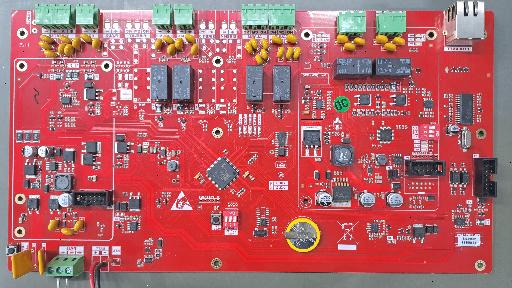var: (10, 247, 36, 280), (38, 248, 46, 275), (48, 219, 60, 231), (73, 219, 84, 232), (39, 41, 54, 50), (40, 34, 55, 43), (336, 34, 349, 44), (72, 37, 82, 50), (44, 50, 59, 58), (64, 44, 74, 56), (286, 34, 298, 44), (375, 35, 388, 44), (343, 42, 356, 51), (80, 33, 93, 42), (271, 35, 283, 44), (163, 35, 175, 44), (184, 34, 196, 43), (92, 38, 101, 50), (58, 43, 67, 55), (61, 228, 74, 236), (392, 37, 405, 45), (353, 37, 366, 45), (383, 43, 396, 51), (59, 36, 72, 44), (250, 37, 258, 50), (175, 38, 183, 51), (293, 47, 301, 60), (245, 41, 253, 54), (255, 54, 264, 65), (260, 48, 268, 60), (167, 44, 175, 56), (190, 44, 198, 56), (277, 46, 285, 58), (286, 47, 293, 60), (155, 38, 162, 50), (261, 38, 268, 50)
